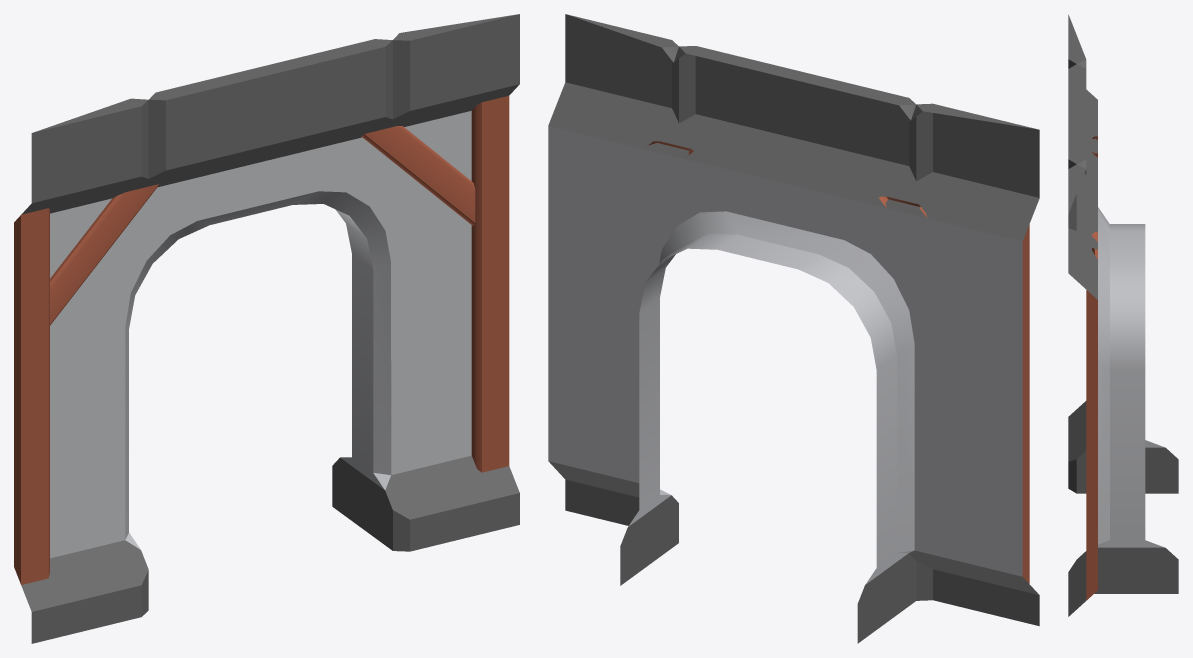
File: Wall_Doorway_Scaffold.fbx
The picture shows the model from 3 angles, left to right: view 1: azimuth 30°, elevation 25°; view 2: azimuth 150°, elevation 25°; view 3: azimuth 270°, elevation 25°; orthographic projection. The views are drawn at different scales.
Visible parts, largest first — view 1: Wall_Doorway_Scaffold; view 2: Wall_Doorway_Scaffold; view 3: Wall_Doorway_Scaffold.
Boxes of the visible parts, x1,y1,x2,y2 form: Wall_Doorway_Scaffold: (14, 14, 519, 643); Wall_Doorway_Scaffold: (548, 14, 1039, 643); Wall_Doorway_Scaffold: (1068, 14, 1178, 616).
Bounding box in the file's own units: 1.47 × 1.47 × 0.3423.
1 material, 1 textured.
